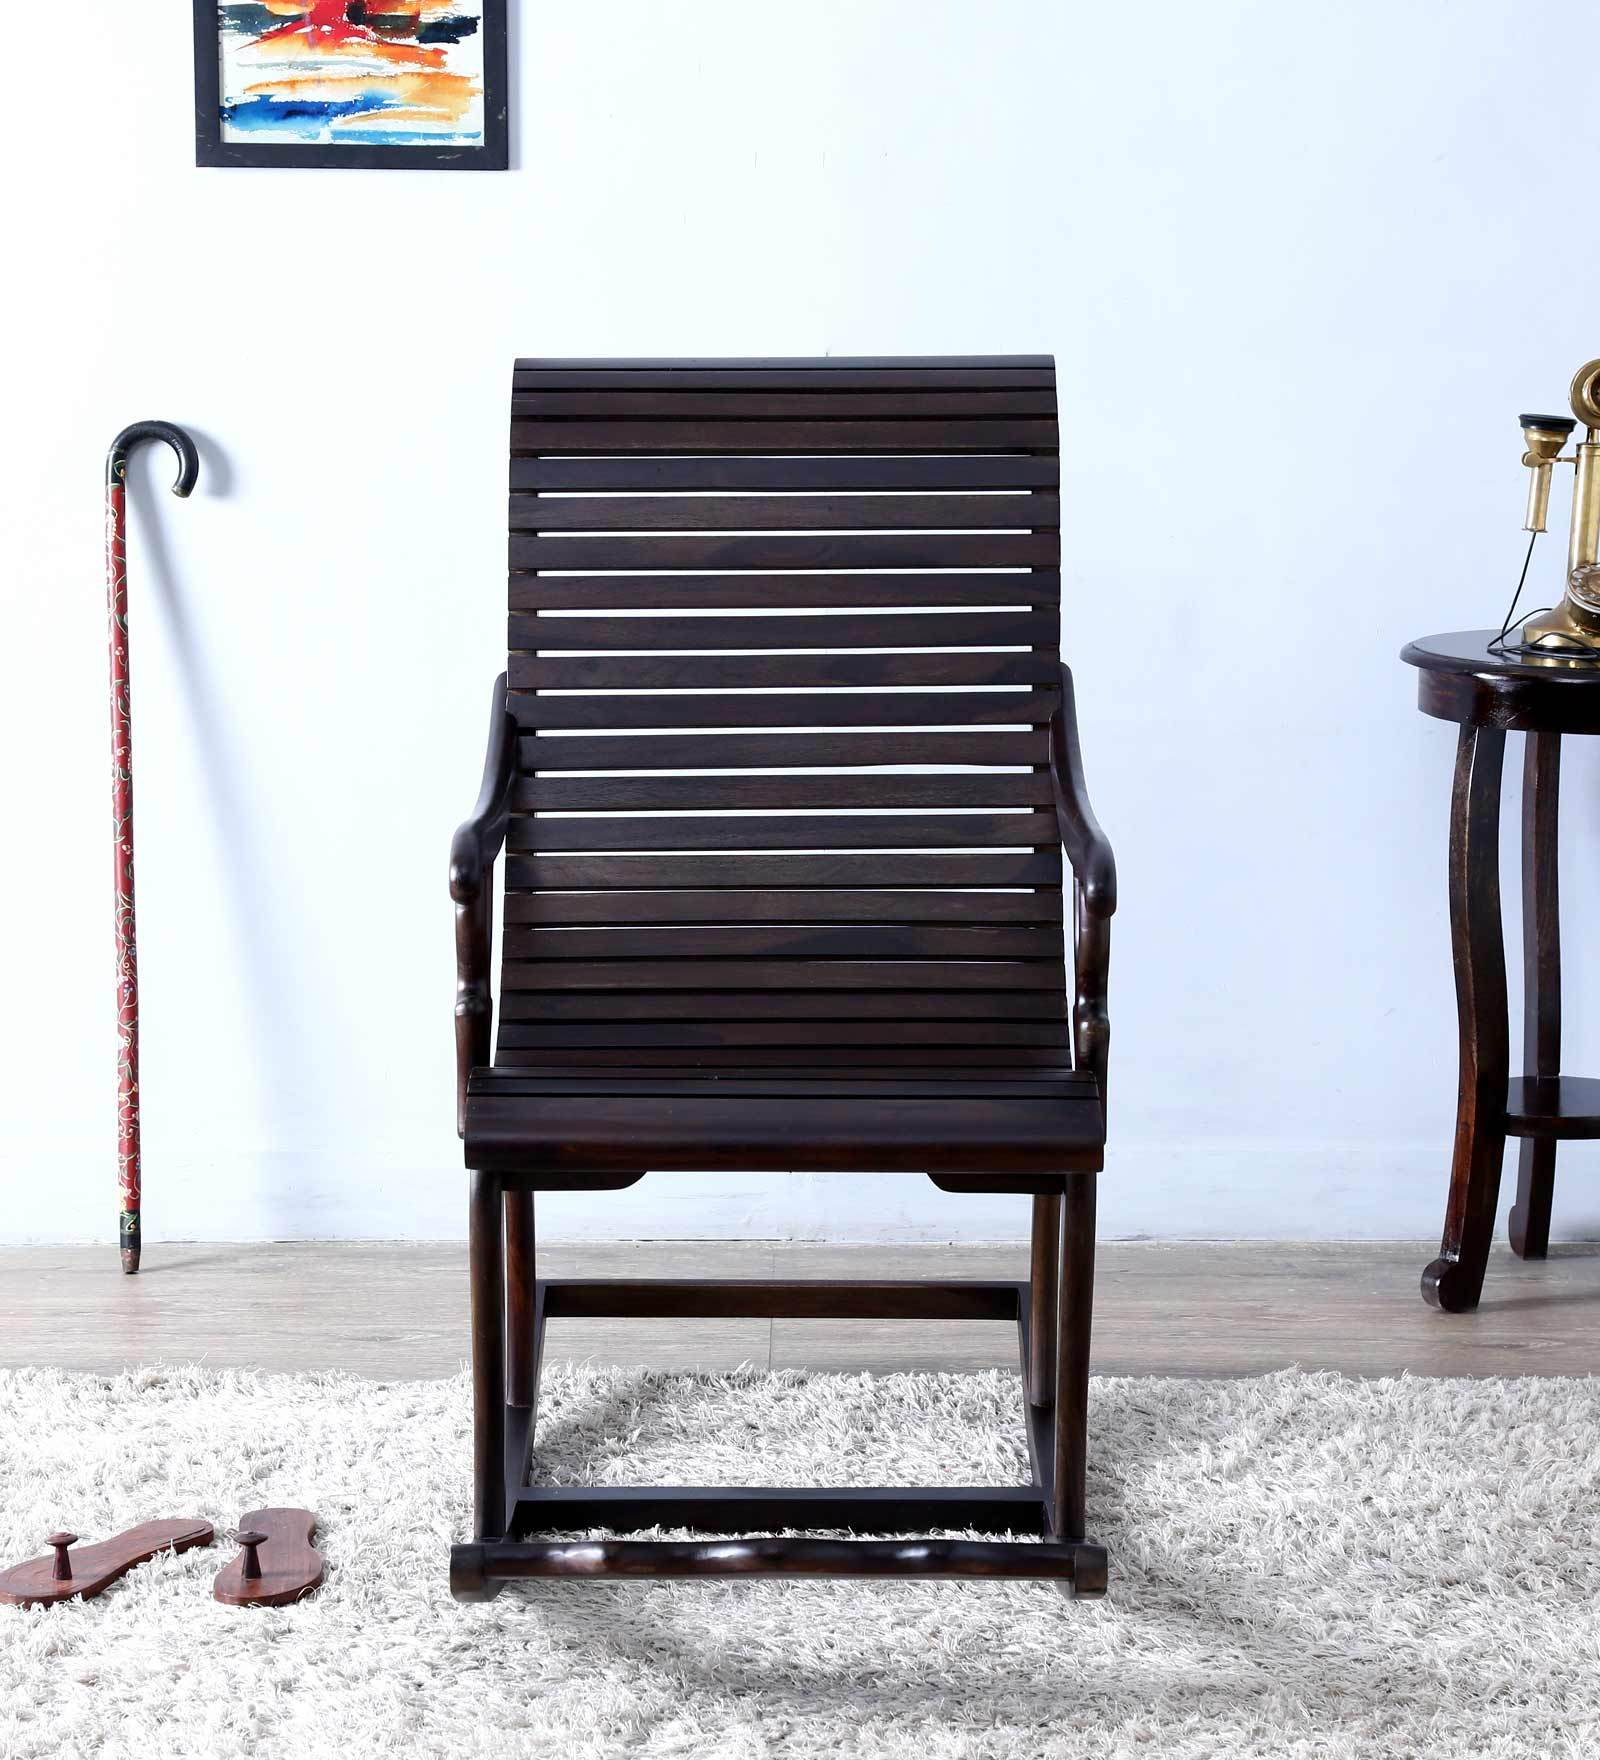Acklom Rocking Chair in Warm Chestnut Finish by Amberville: (403, 328, 1149, 1614)
